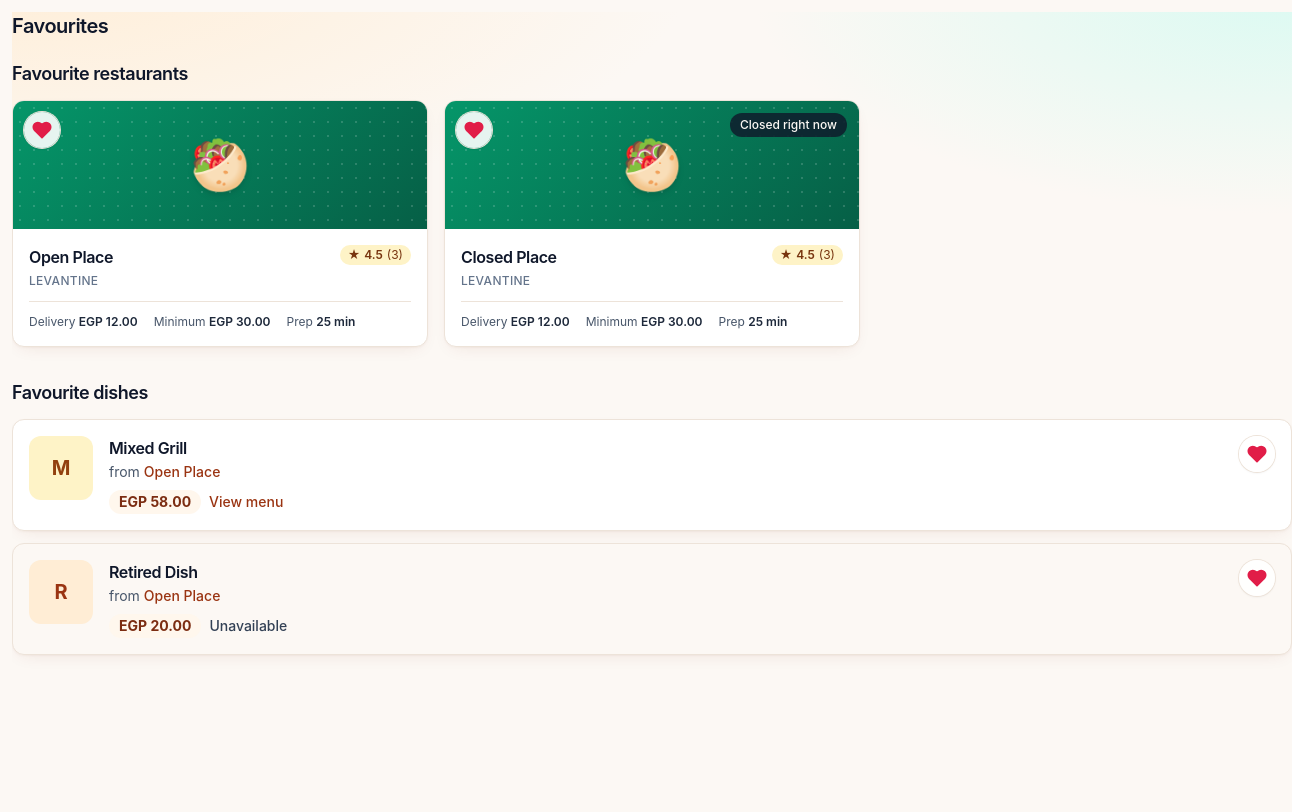
Test: FavouritesView (FR-16.7, BR-FV5) › drops an entry when its heart is turned off
This screenshot has width=1292, height=812.
Click the button named "Remove Retired Dish from favourites" at [1257, 578], box [1239,560,1275,596]
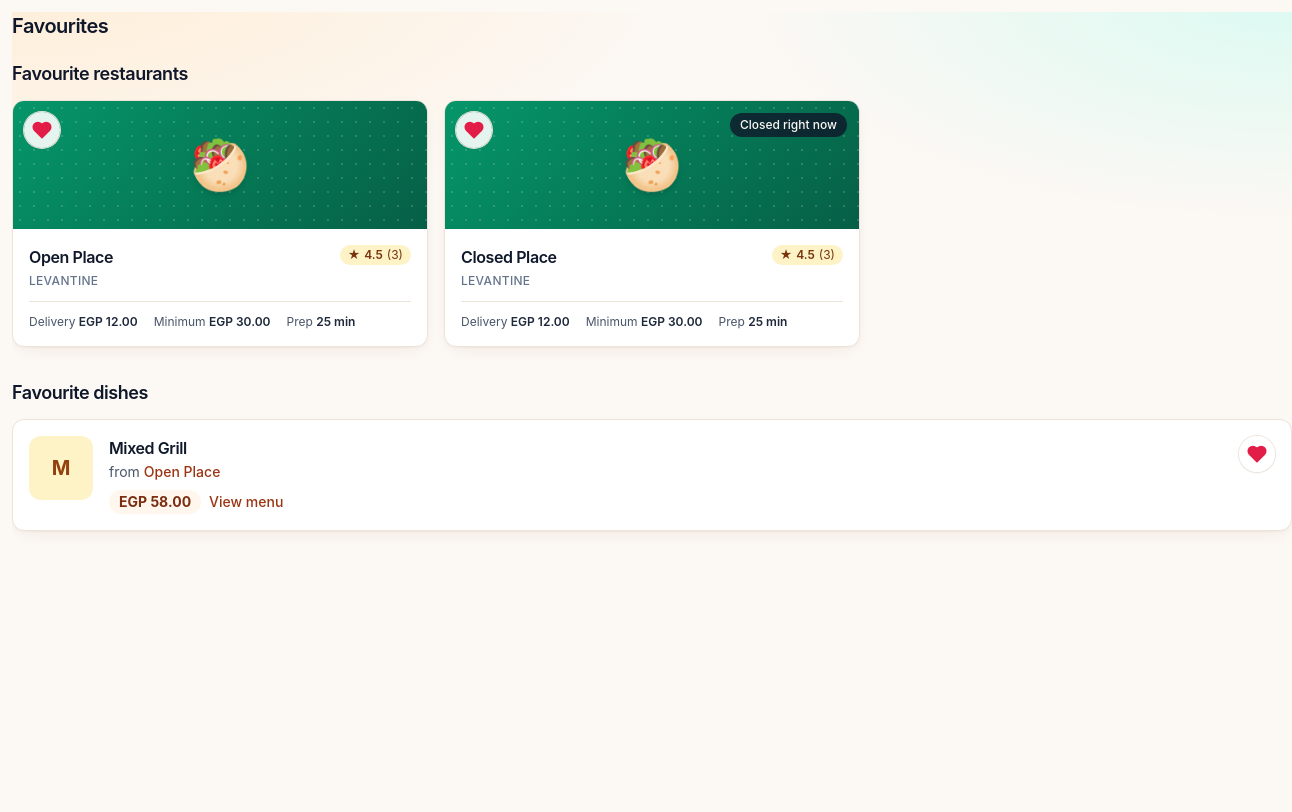
Expected: the text "Mixed Grill" is shown, [109,438,187,458]
Expected: the text "Retired Dish" is gone
